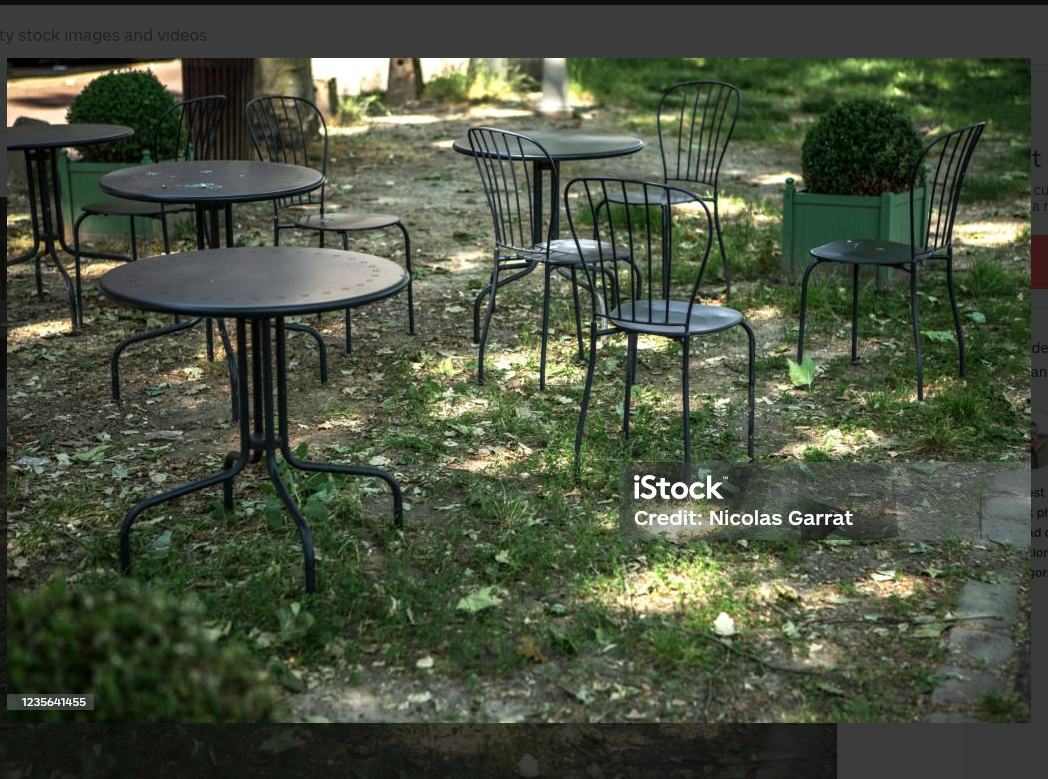obstacle: (101, 241, 410, 577), (553, 177, 770, 471), (785, 119, 966, 395), (468, 128, 606, 379), (233, 92, 419, 242), (10, 115, 138, 319), (776, 102, 910, 242), (103, 154, 320, 228)
